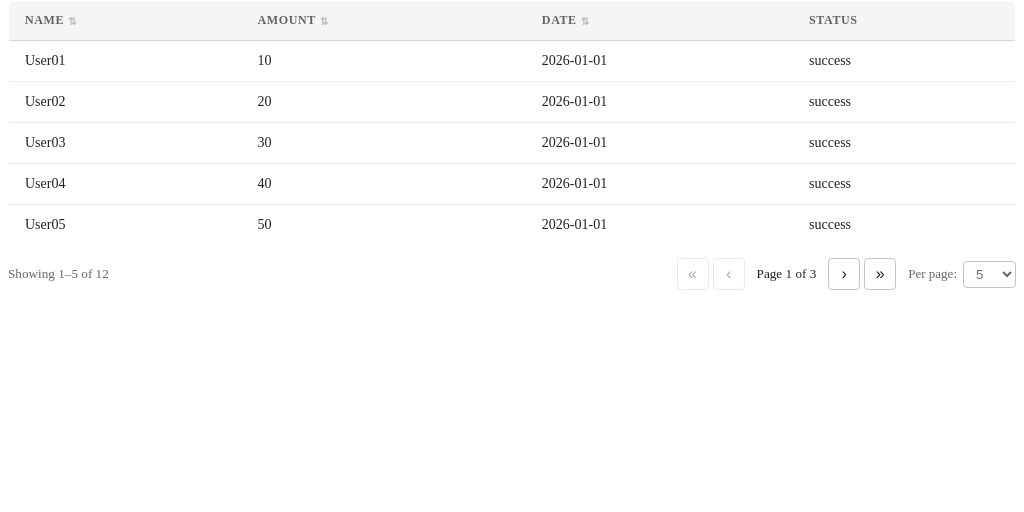
Test: DataTable — pagination › resets to page 1 when page size changes
This screenshot has width=1024, height=512.
Note: Go to page 2
Click the button named "next page". click: (844, 274)
box: [828,258,860,290]
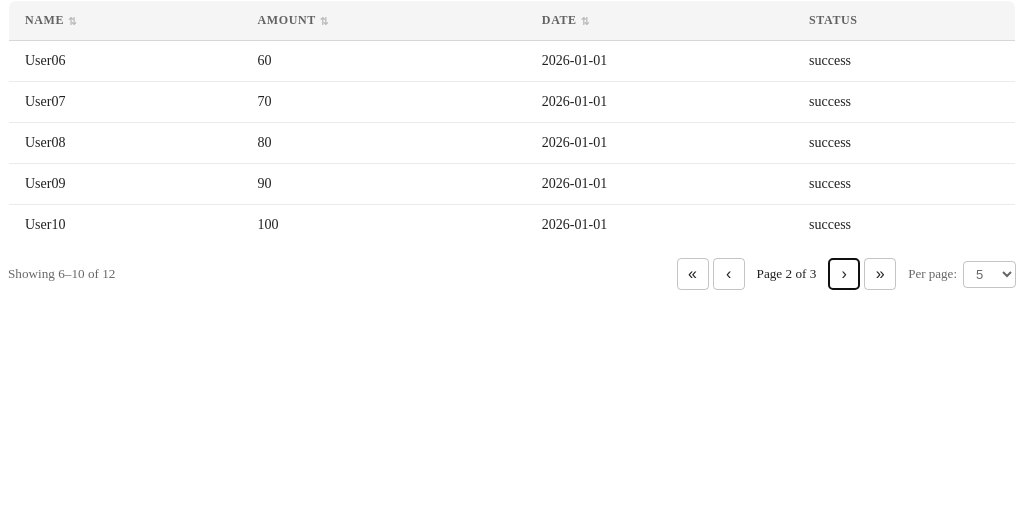
Now the text "Page 2 of 3" is shown, box [756,266,816,281]
Note: Change page size
Select "10" in the dropdown labelled "Per page:". click: (990, 274)
box: [963,260,1016,288]
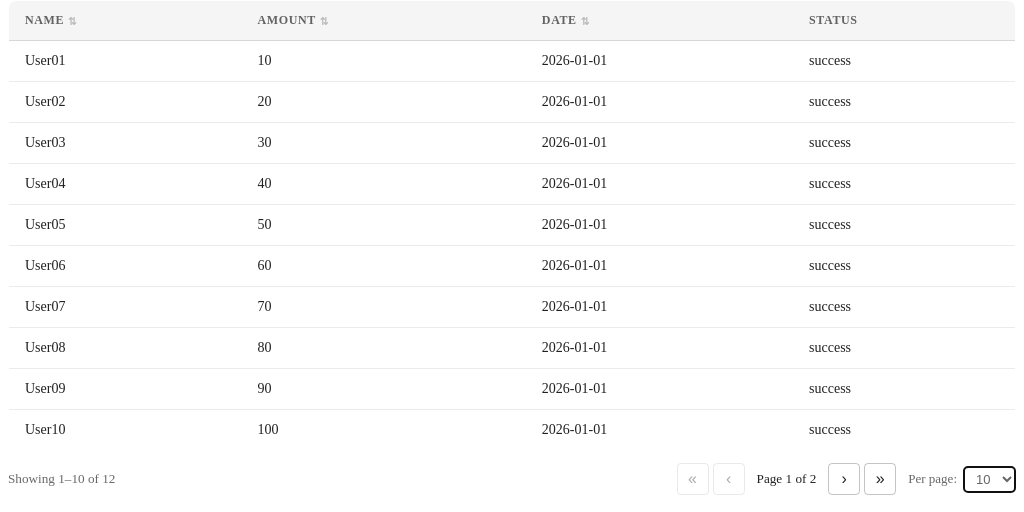
Now the text "Page 1 of 2" is shown, box [756,471,816,486]
